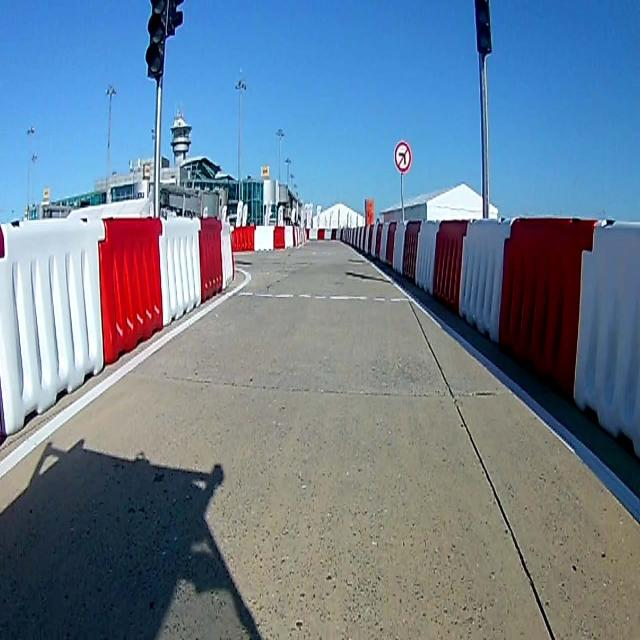soladonulmez: (394, 142, 412, 172)
